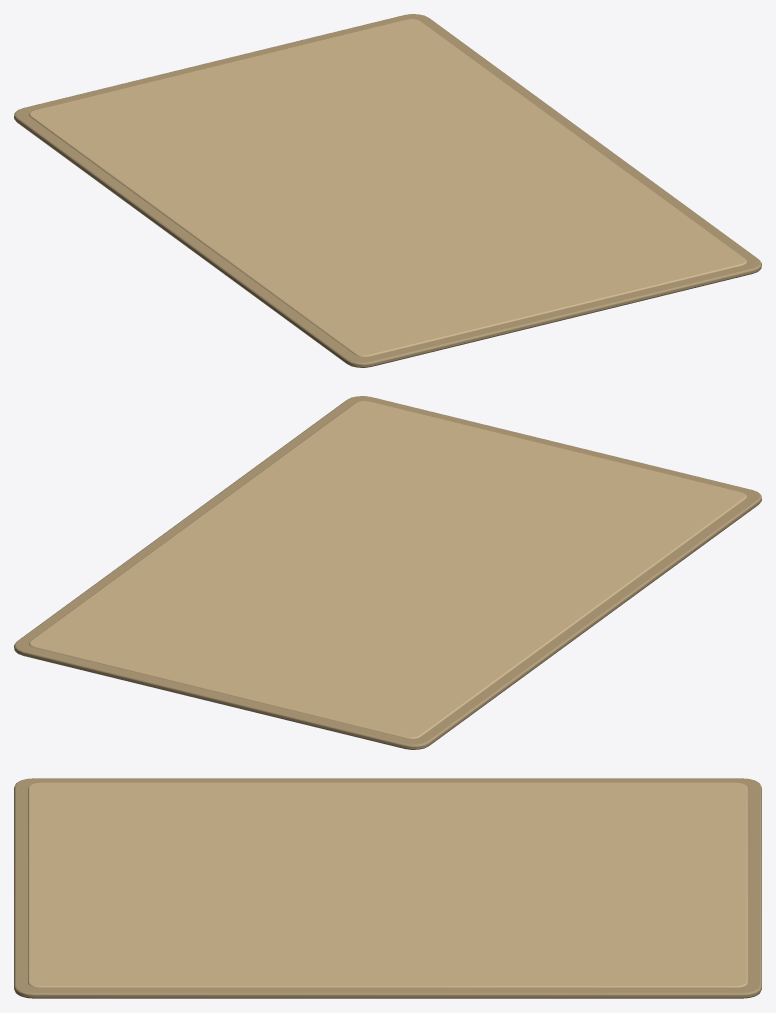
Rendered from rug_rect__203.glb.
The picture shows the model from 3 angles, top to bottom: view 1: azimuth 30°, elevation 25°; view 2: azimuth 150°, elevation 25°; view 3: azimuth 270°, elevation 25°; orthographic projection. The views are drawn at different scales.
Visible parts, largest first — view 1: rug_rect__203; view 2: rug_rect__203; view 3: rug_rect__203.
Boxes of the visible parts, x1,y1,x2,y2 form: rug_rect__203: (14, 14, 761, 367); rug_rect__203: (14, 396, 761, 749); rug_rect__203: (14, 778, 761, 998).
Bounding box in the file's own units: 1.3 × 0.02 × 1.9.
